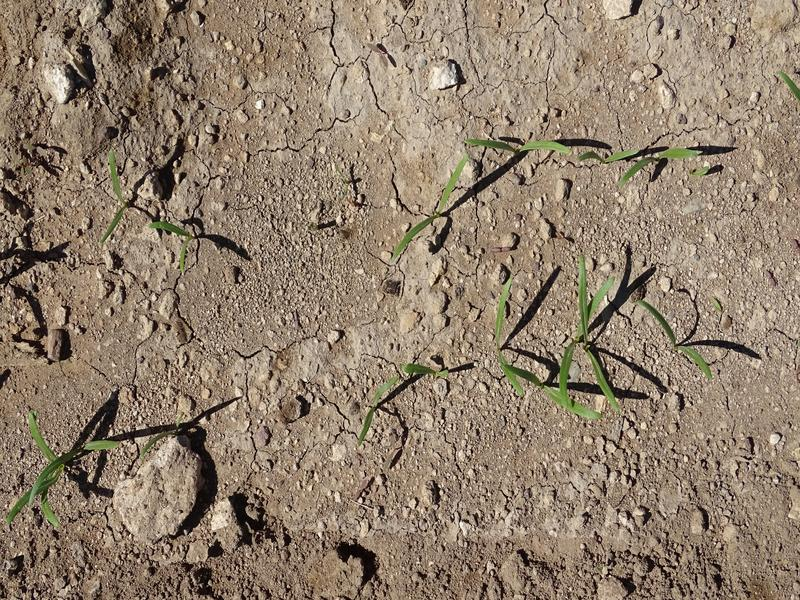Espinaca: (544, 254, 629, 420), (3, 414, 123, 522), (359, 359, 447, 440), (635, 297, 717, 382), (395, 159, 469, 251), (478, 272, 525, 403), (591, 137, 698, 178), (96, 150, 137, 245), (464, 130, 573, 163), (148, 215, 199, 275)
